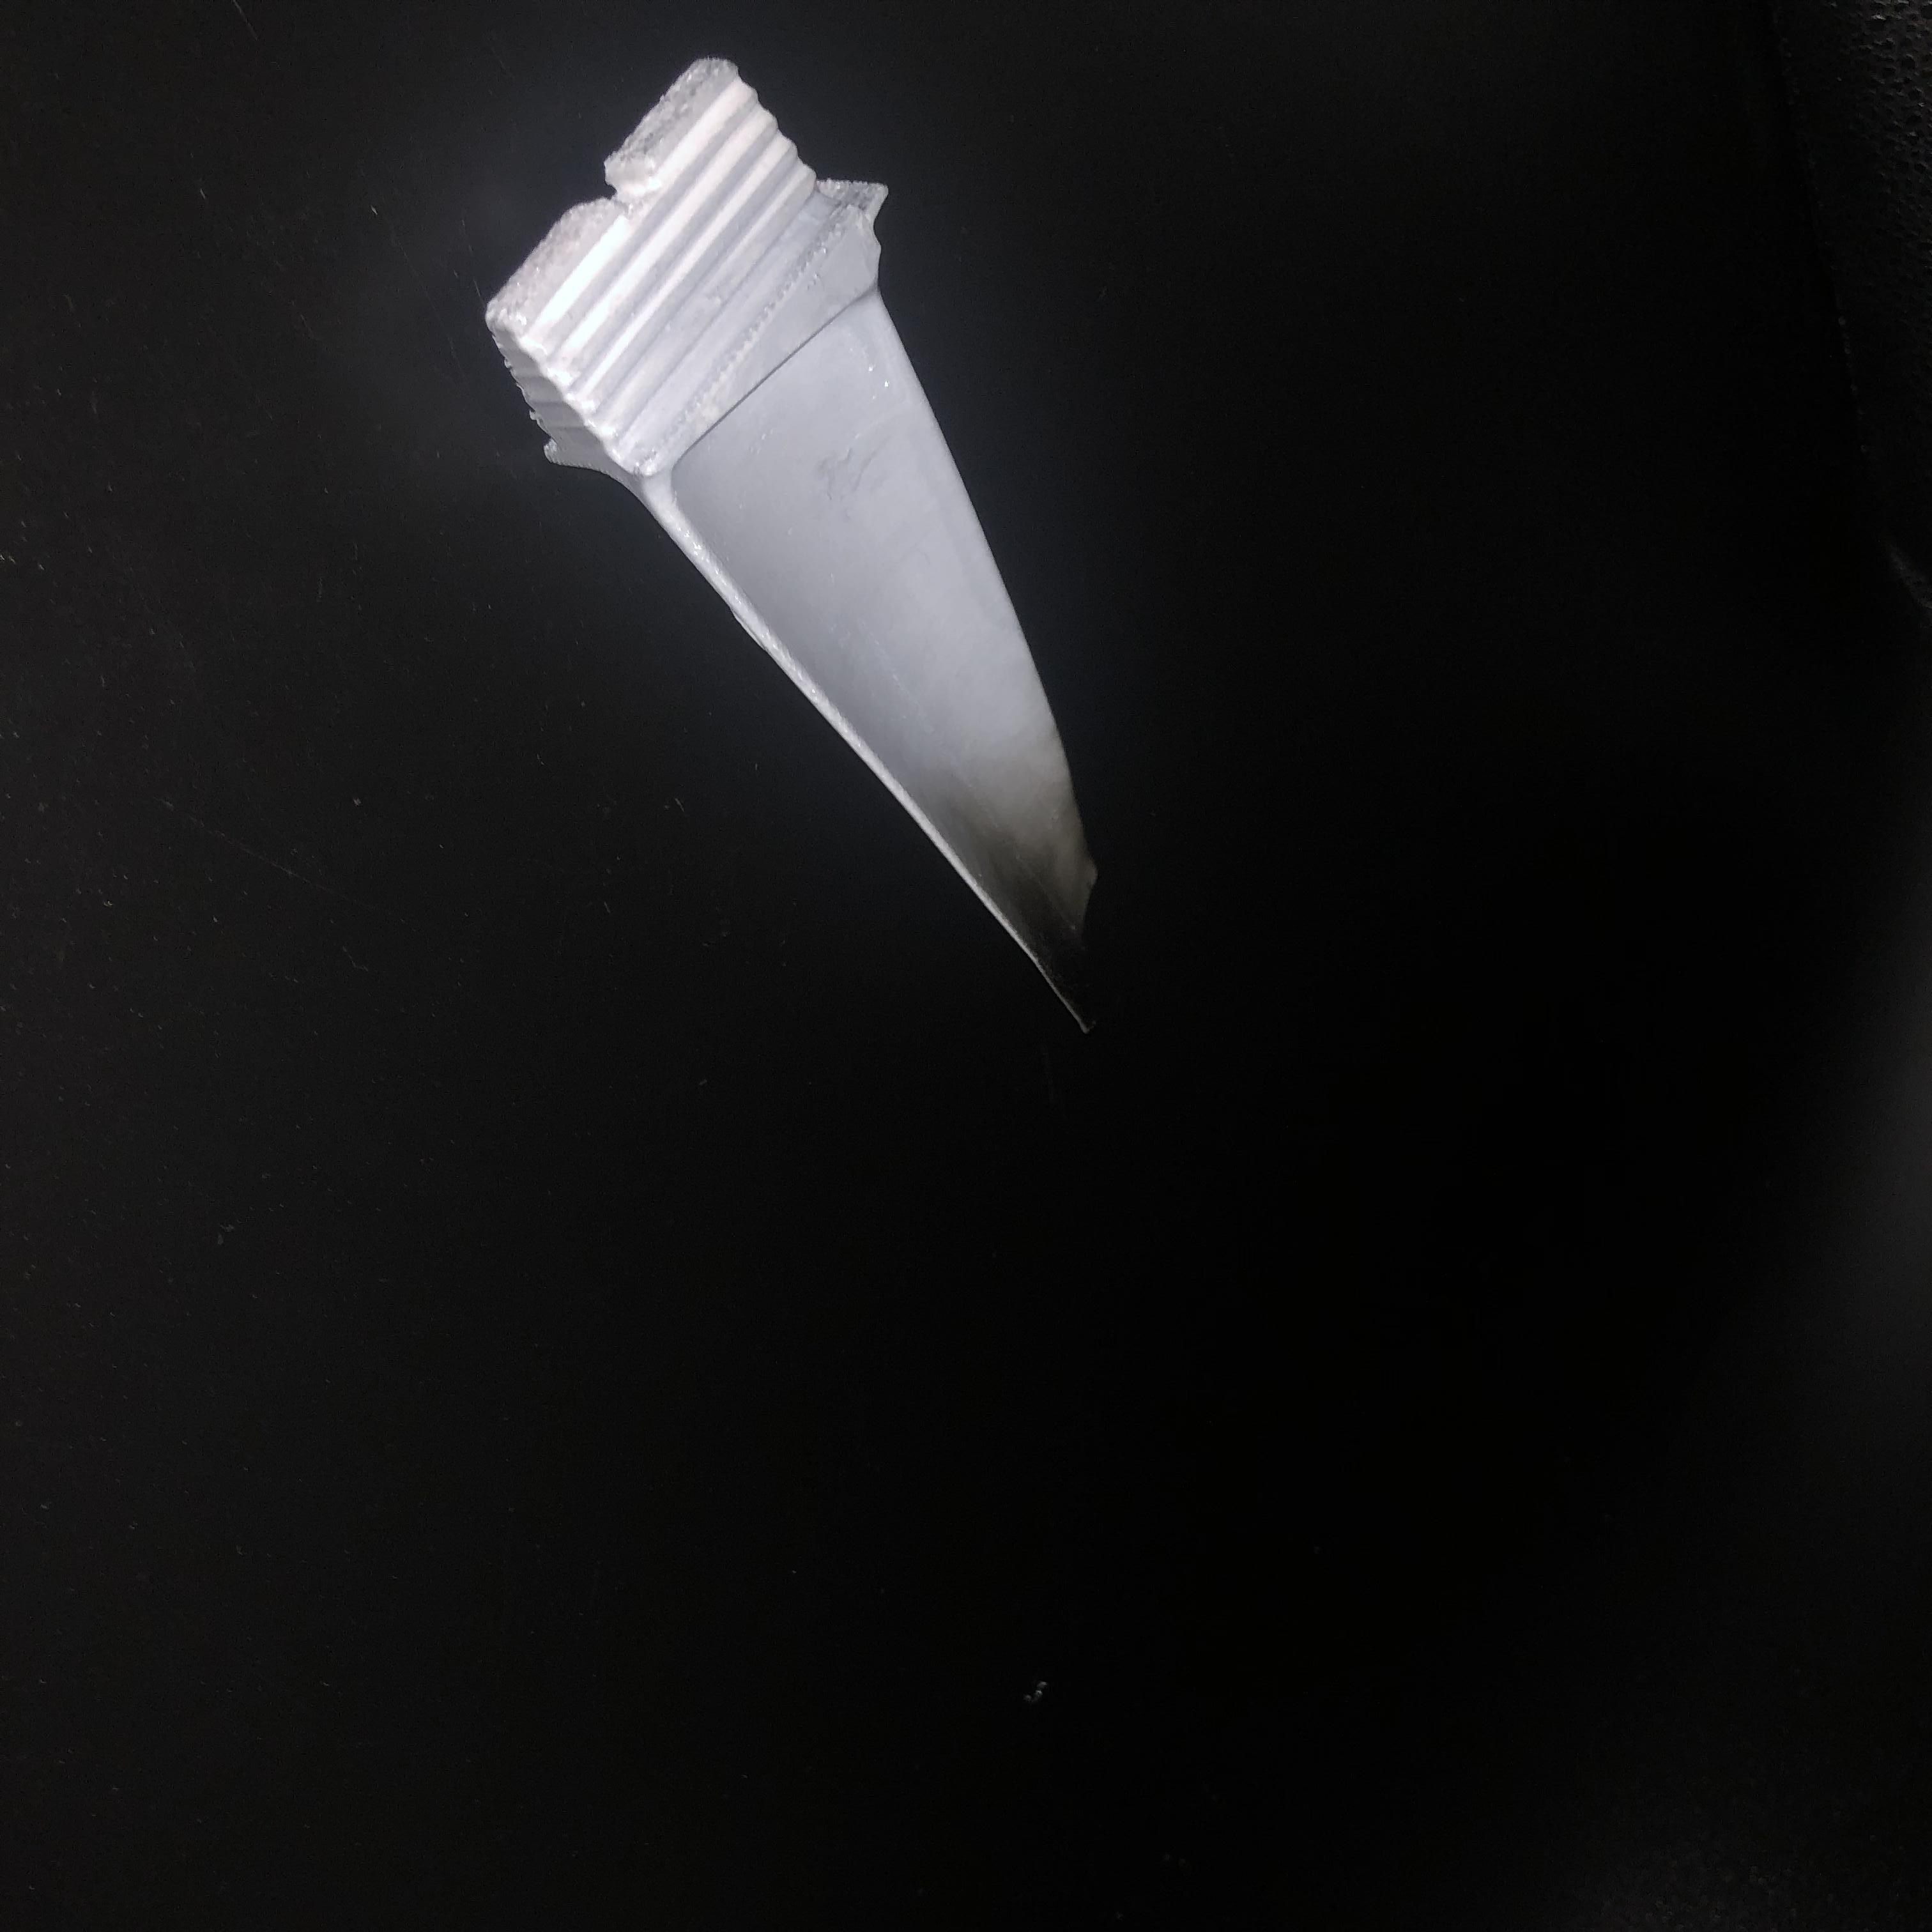ablation: (971, 814, 1095, 1003)
